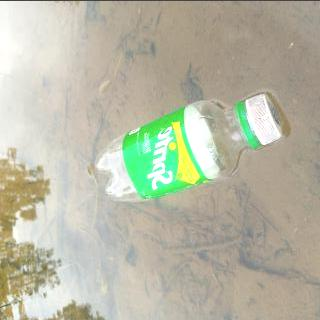bottle: (94, 90, 284, 204)
